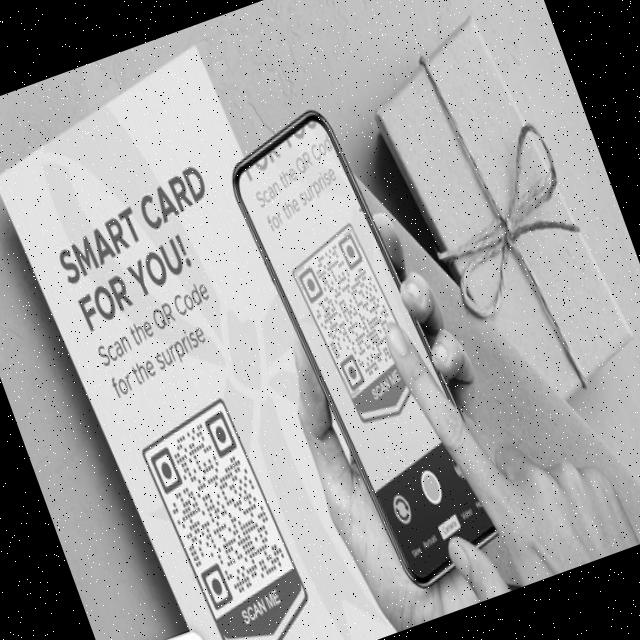QR-codes: (282, 218, 416, 400)
